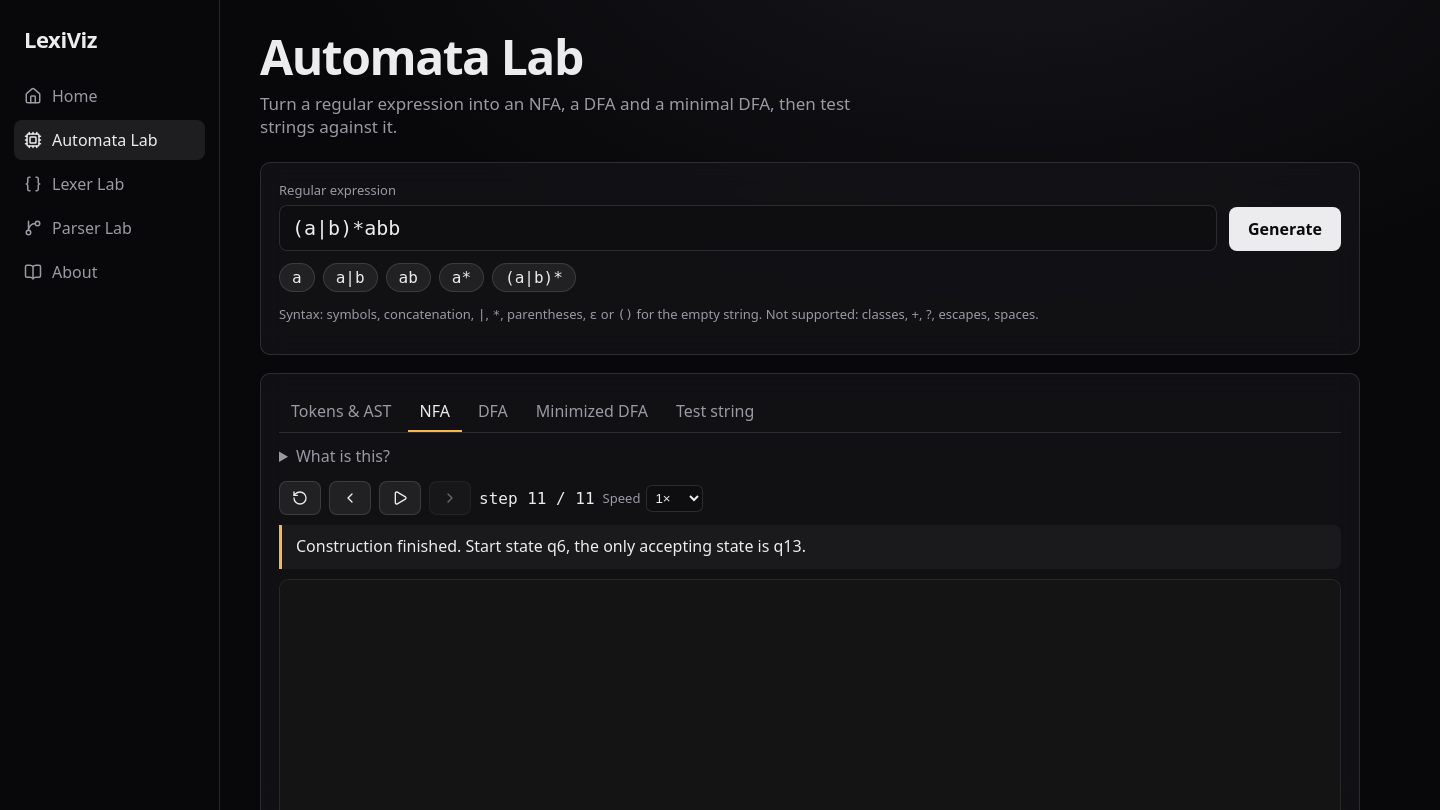
Scenario: Automata Lab UI › an invalid regex shows the error with its position and no graph
Replace the text in the field labelled "Regular expression" with "(a|b": (748, 228) [279,205,1217,251]
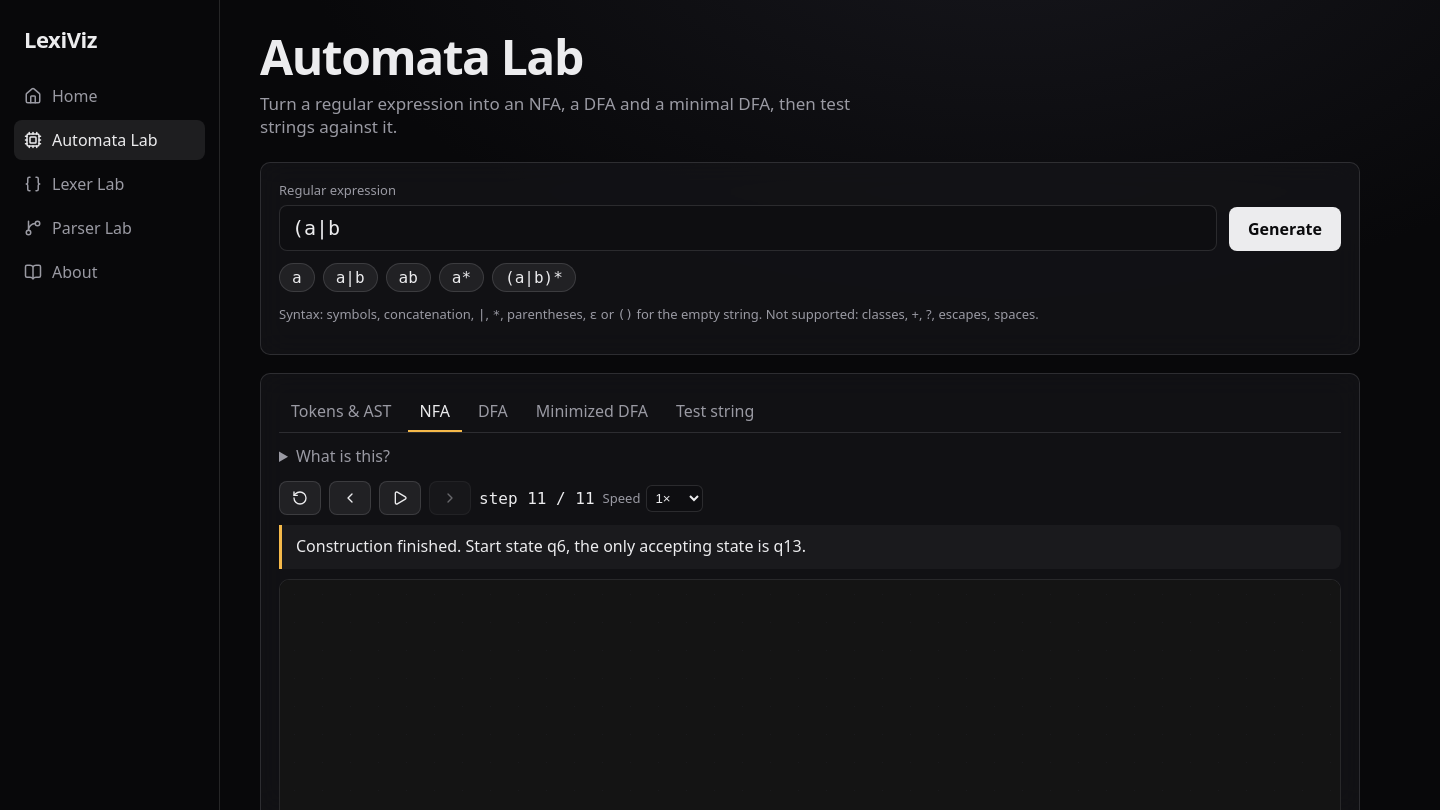
Click the button "Generate": (1285, 229) [1229,207,1341,251]
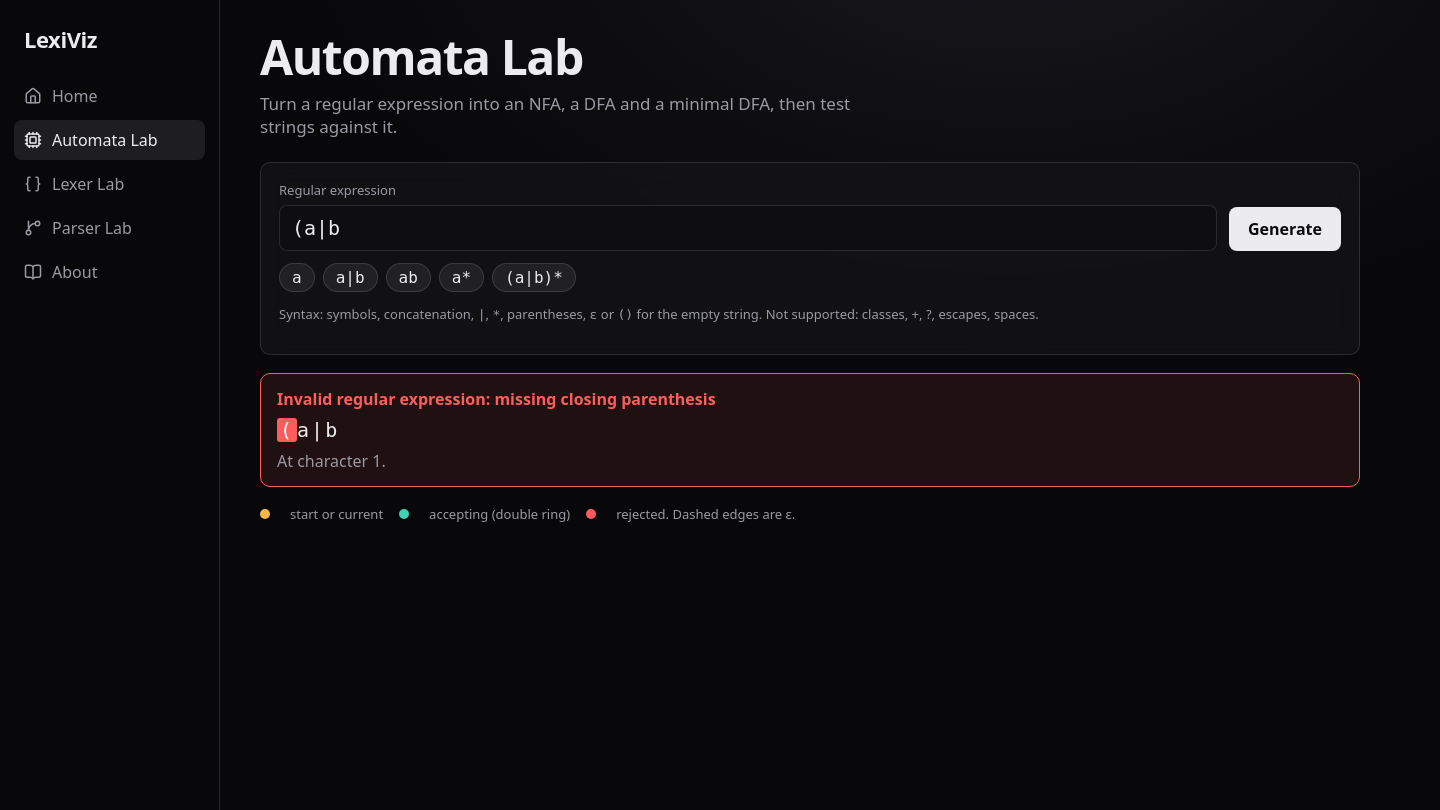
Expected: the message shows "Invalid regular expression: missing closing parenthesis", [277,388,716,410]
Expected: the message shows "At character 1", [260,373,1360,487]
